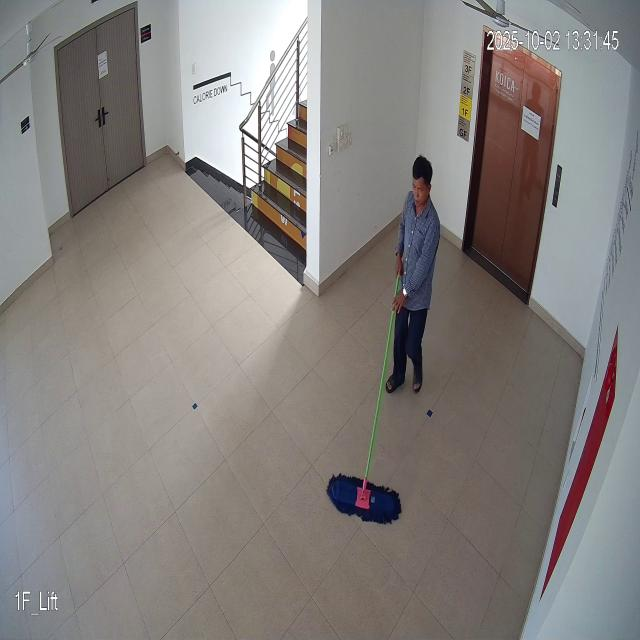face: (409, 152, 433, 212)
